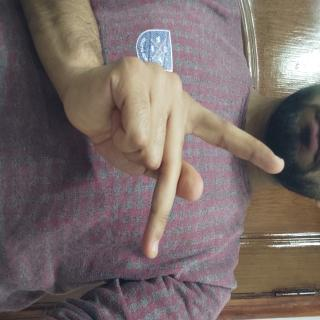DHAA: (32, 36, 199, 320)
